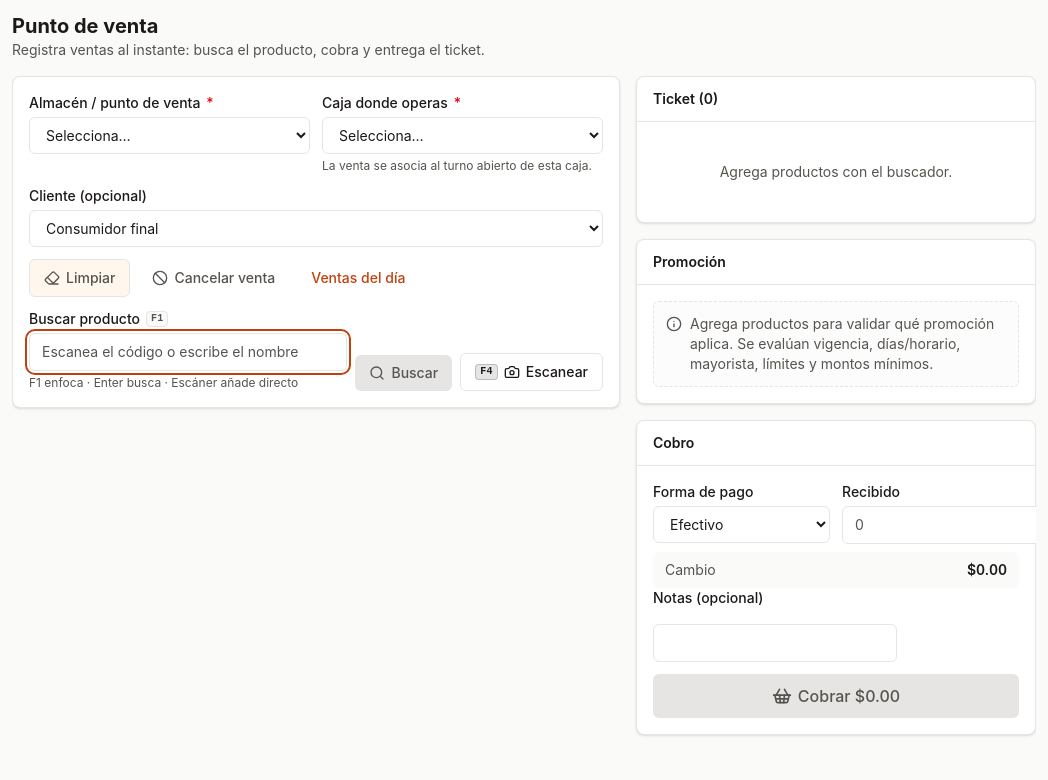
Test: PosPage (profundización) › añade directo al buscar el código interno exacto
In the field labelled "Buscar producto": (188, 352) [29,333,347,371], type "MAR-001"
Then press Enter
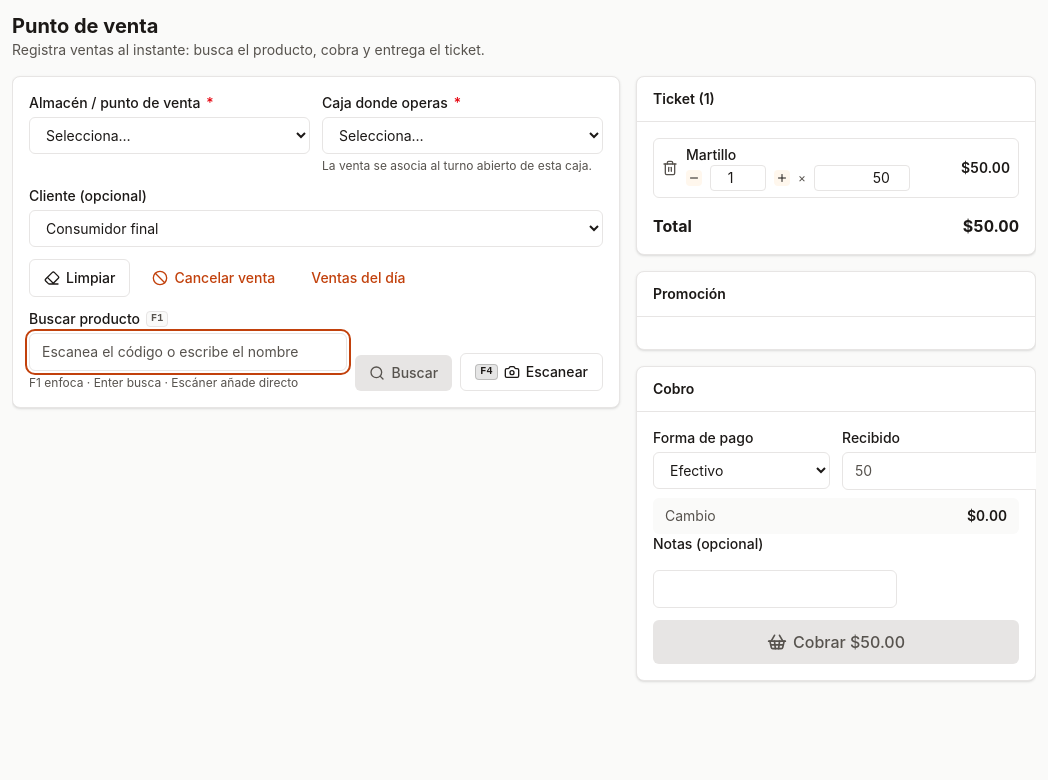
Expected: the heading "Ticket (1)" is shown, [653,89,715,109]
